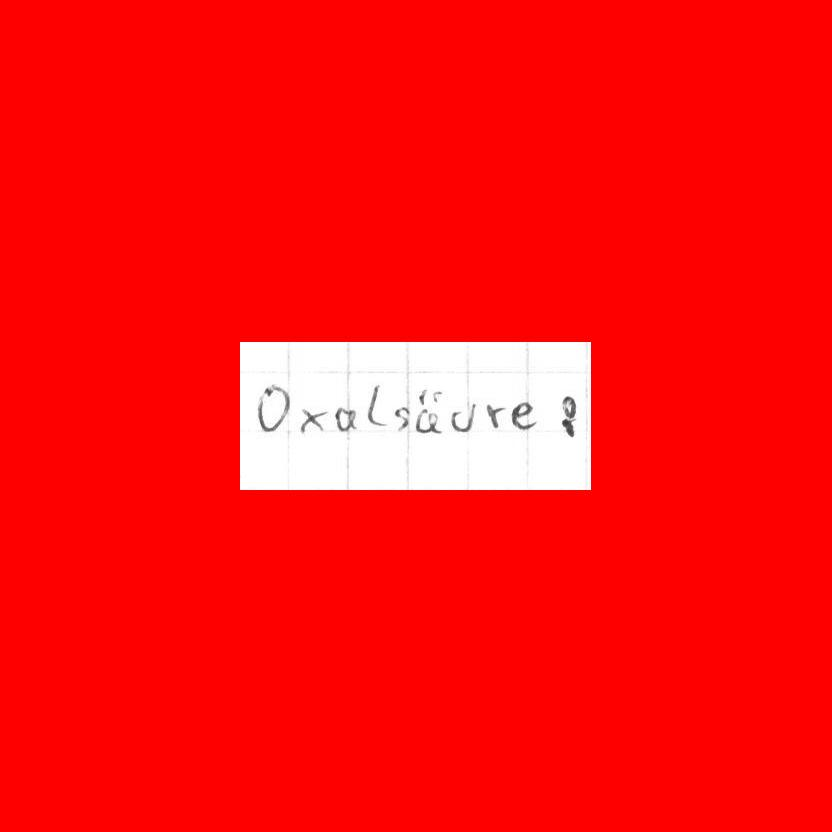Char: (256, 380, 292, 435), (413, 386, 441, 435), (558, 392, 578, 439), (366, 383, 386, 428), (510, 399, 537, 431), (299, 406, 327, 434), (449, 402, 473, 434), (334, 405, 358, 432), (484, 399, 504, 430), (392, 404, 410, 431)
